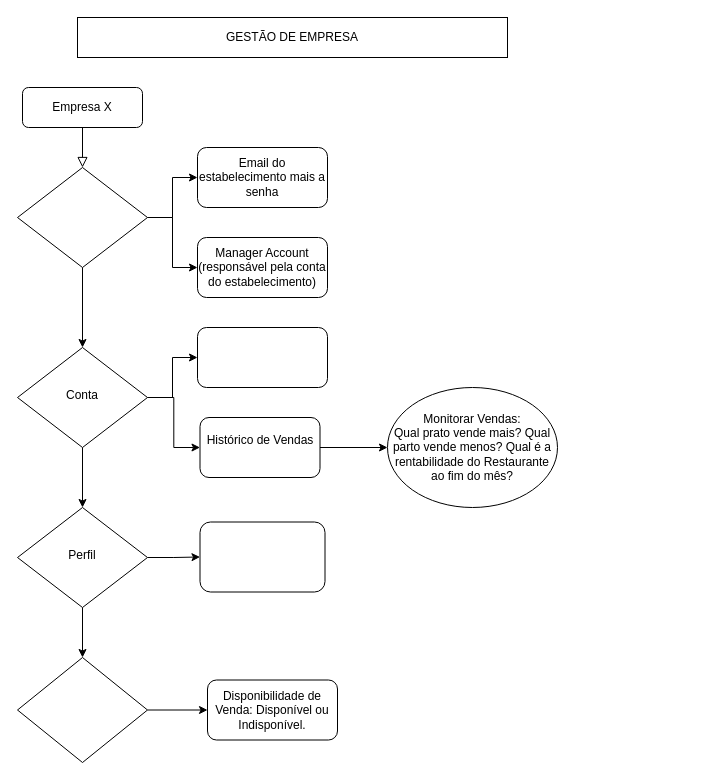
Some shapes in this 705 by 780 pixel diagram are drawn without their labels. The shapes that lost their labels are listed below. From the top down, each one's box as (x1, y1, x2, y2) in pixels, then its label:
(16, 166, 148, 268): Register + Login Empresarial
(196, 326, 328, 388): Request Account Deletion (acesso a encerrar conta)
(199, 521, 325, 592): Bio do restaurante (Nome, endereço, contacto, horarios etc..)
(16, 656, 148, 762): Status do Restaurante
